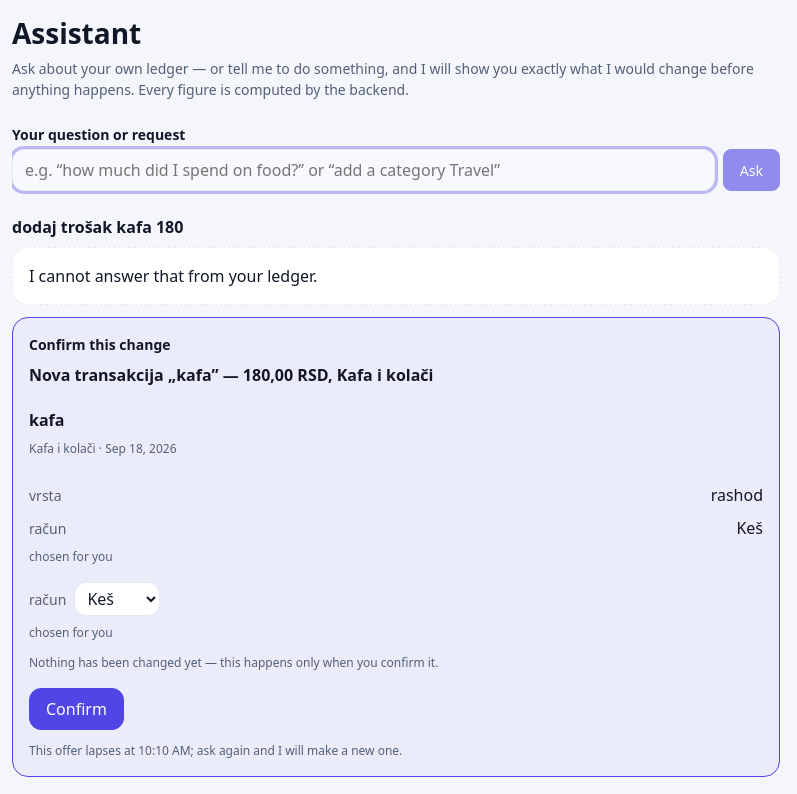
Scenario: the assistant write path (B-2b) › undoes a confirmed transaction through undoCapture, and links to the row
The image size is (797, 794).
Click the button with class "act__confirm". click: point(76, 709)
box: [29,688,124,730]
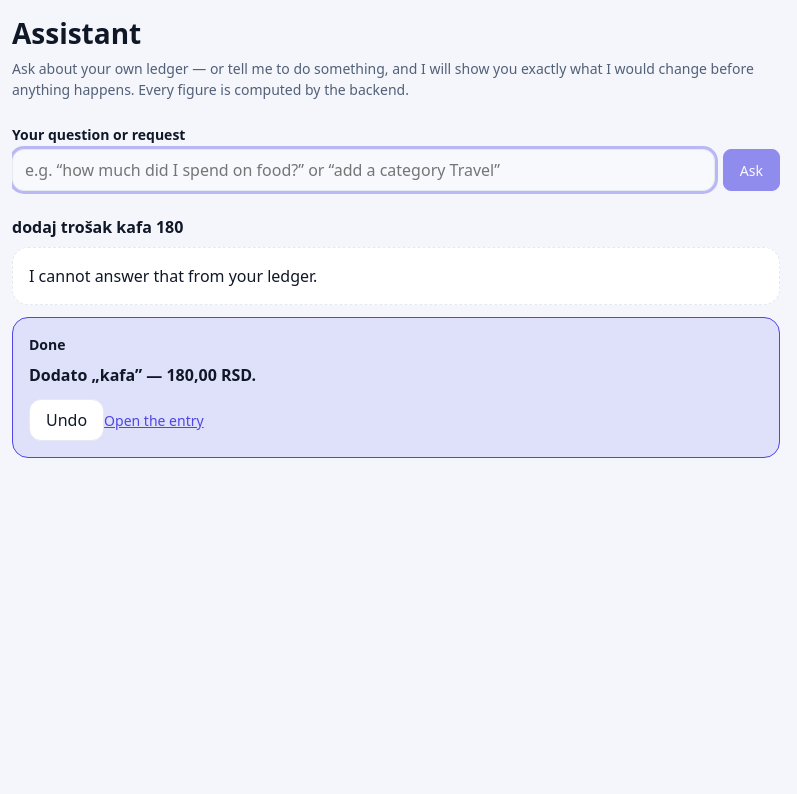
Click the button with class "act__undo". click: point(67, 420)
box: [29,399,104,441]
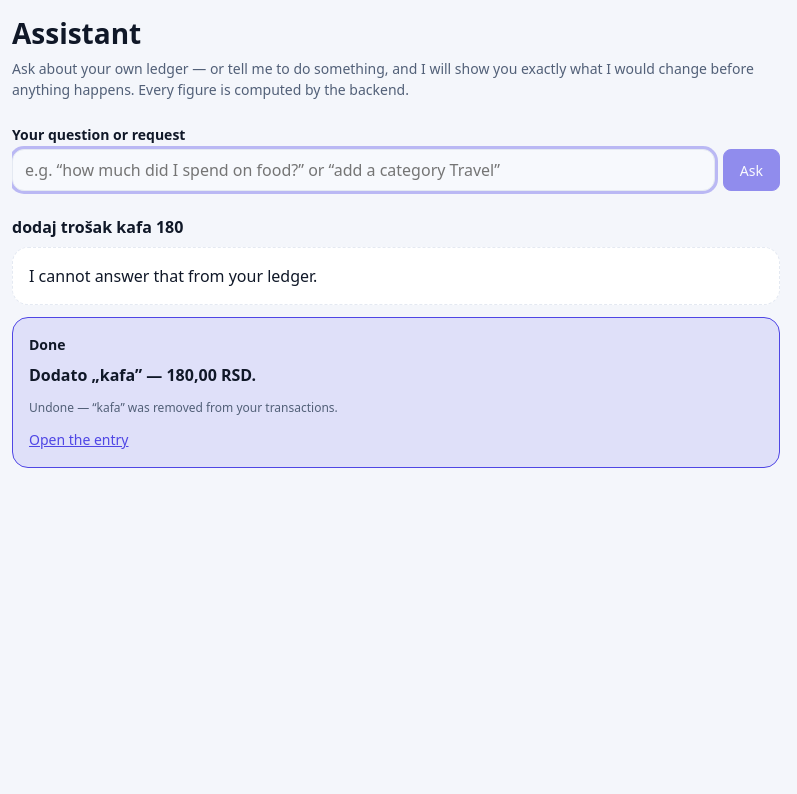
Expected: the text "removed from your transactions" is shown, [29,399,338,416]
